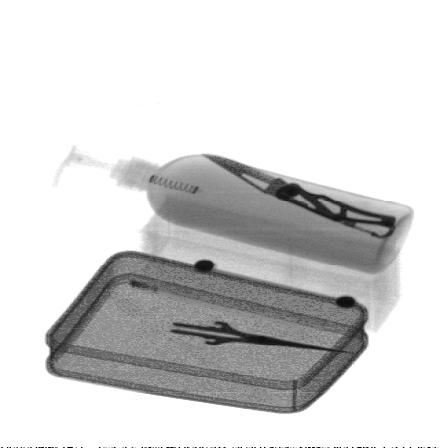Knife: (199, 153, 396, 240)
Scissors: (124, 298, 356, 354)
